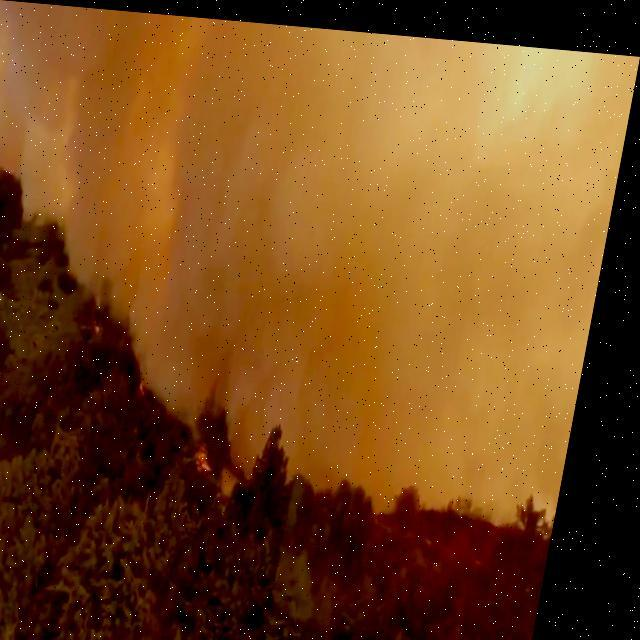Fire: (203, 436, 240, 472)
